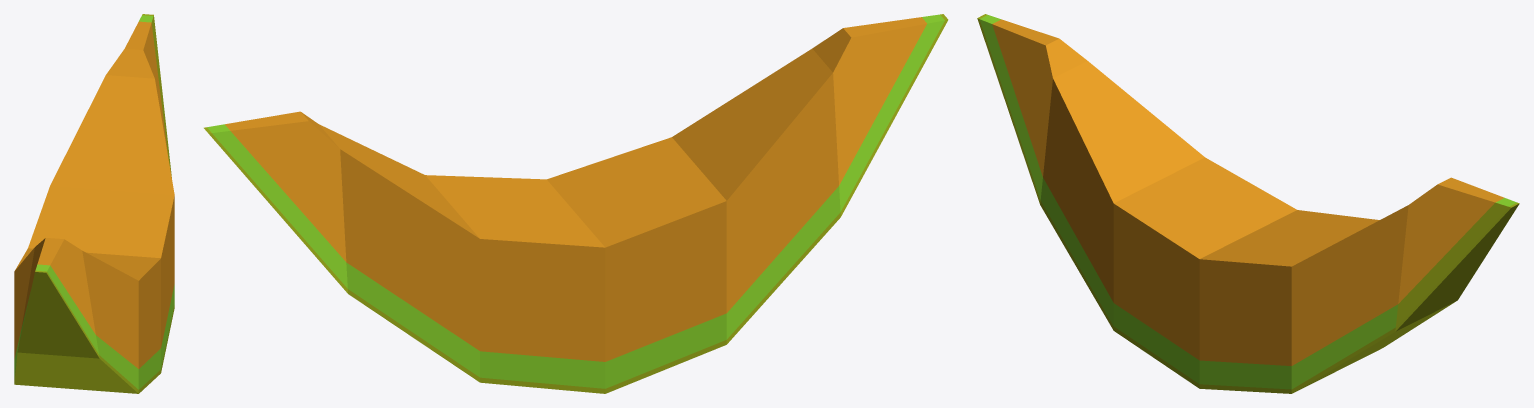
The model's file is melon-harvest.glb.
3 views of the same model, side by side, from view 1: azimuth 30°, elevation 25°; view 2: azimuth 150°, elevation 25°; view 3: azimuth 270°, elevation 25° (orthographic). The views are drawn at different scales.
Visible parts, largest first — view 1: Box001; view 2: Box001; view 3: Box001.
Part boxes in pixels (x1,y1,x2,y2): Box001: [14, 14, 174, 393]; Box001: [204, 14, 948, 393]; Box001: [977, 14, 1519, 393].
Bounding box in the file's own units: 0.8445 × 0.5152 × 1.
